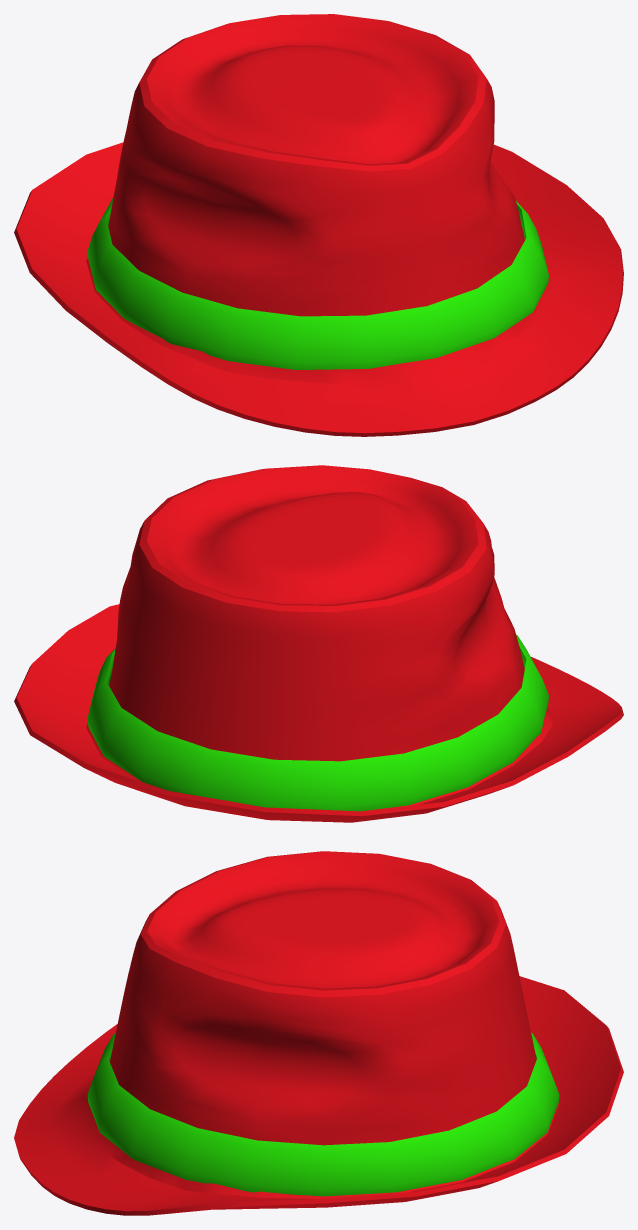
Rendered from fedora hat .fbx.
The picture shows the model from 3 angles, top to bottom: view 1: azimuth 30°, elevation 25°; view 2: azimuth 150°, elevation 25°; view 3: azimuth 270°, elevation 25°; orthographic projection.
Visible parts, largest first — view 1: Cylinder; view 2: Cylinder; view 3: Cylinder.
Boxes of the visible parts, bbox=[...] form: Cylinder: bbox=[14, 14, 623, 436]; Cylinder: bbox=[14, 465, 623, 822]; Cylinder: bbox=[14, 851, 623, 1215].
Size of the model in its own units: 253 by 102 by 239.
